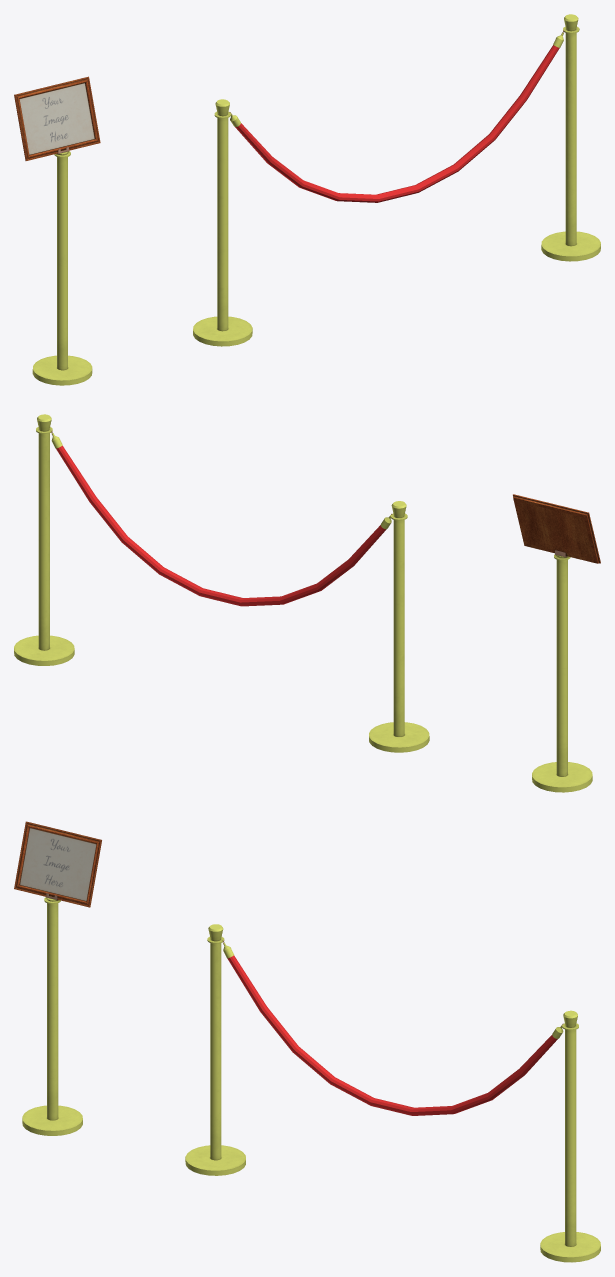
File: grand_entrance_a_pole_with_a_sign._gold_velour.glb
3 renders of one model, top to bottom at view 1: azimuth 30°, elevation 25°; view 2: azimuth 150°, elevation 25°; view 3: azimuth 330°, elevation 25°, orthographic.
Parts seen in each view (by area): view 1: PolesRope, PoleTable, PoleTableImage; view 2: PolesRope, PoleTable; view 3: PolesRope, PoleTable, PoleTableImage.
Boxes of the visible parts, x1,y1,x2,y2 form: PolesRope: (193, 14, 600, 346); PoleTable: (14, 76, 100, 385); PoleTableImage: (19, 83, 94, 154); PolesRope: (14, 414, 429, 752); PoleTable: (513, 494, 600, 792); PolesRope: (185, 924, 600, 1262); PoleTable: (14, 821, 101, 1135); PoleTableImage: (20, 828, 96, 901).
Size of the model in its own units: 2.8 by 1.31 by 0.2541.
Materials: 1 (1 with a texture image).
